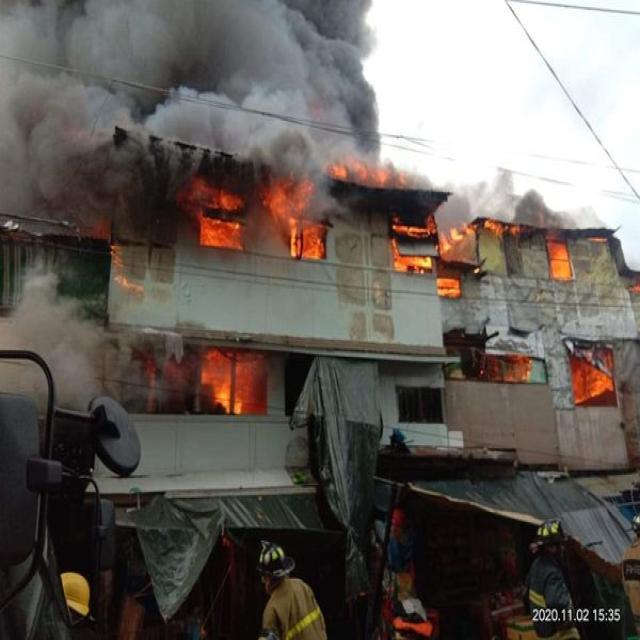Fire: (266, 170, 338, 262), (186, 168, 247, 252), (208, 344, 268, 414), (328, 150, 424, 184), (568, 346, 618, 406), (397, 219, 442, 279), (544, 243, 571, 286), (435, 266, 463, 303)
Smoke: (4, 0, 406, 159), (0, 136, 124, 242), (7, 287, 112, 394), (458, 168, 560, 235)
